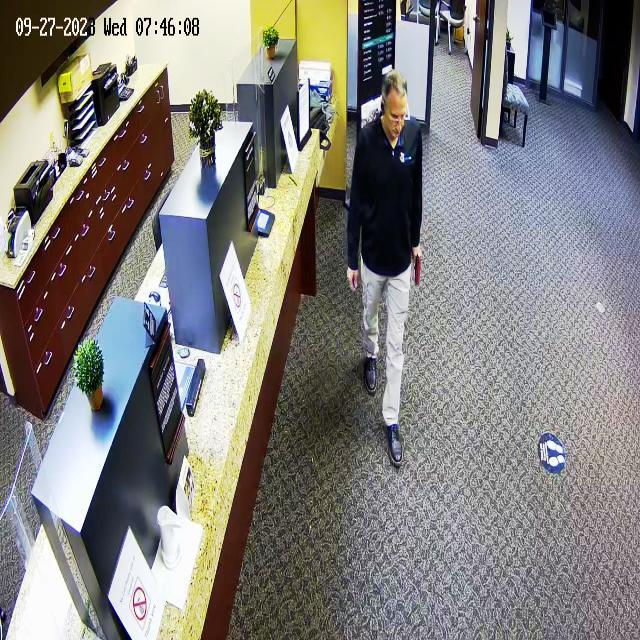Gun: (405, 241, 439, 290)
